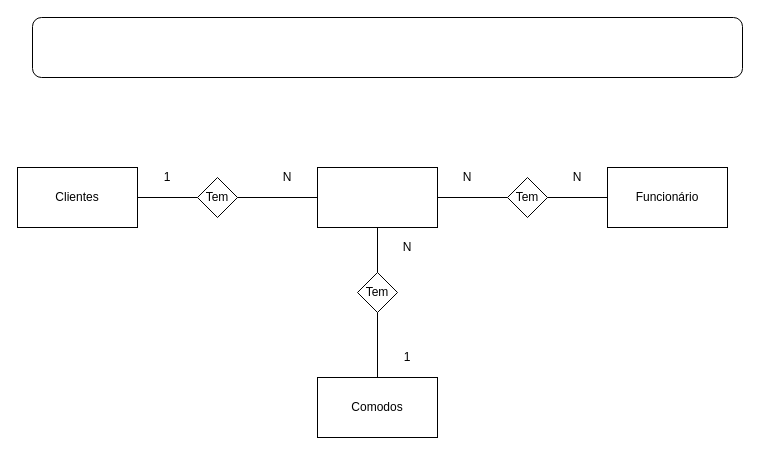
The diagram is 760 pixels wide and 455 high, and some of its shapes have lost their labels. Each missing label, with the centre of its shape:
"Modelagem_Conceitual" goes at pixel 387 47.
"Serviços" goes at pixel 377 197.
